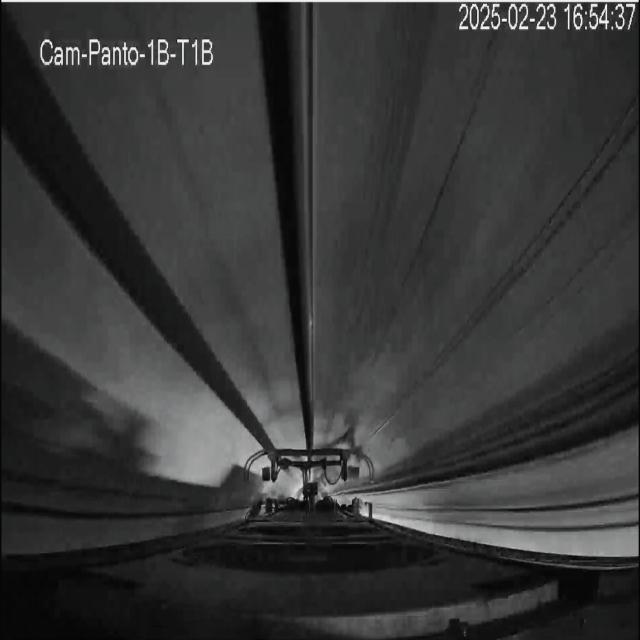Camera Stamp: (34, 28, 220, 69)
Date Stamp: (459, 3, 636, 33)
No - Spark: (245, 442, 373, 515)
